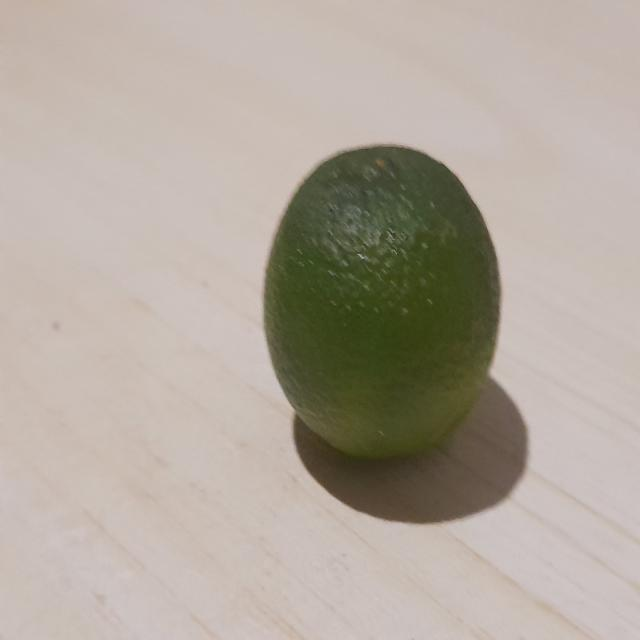heathy: (262, 137, 508, 469)
